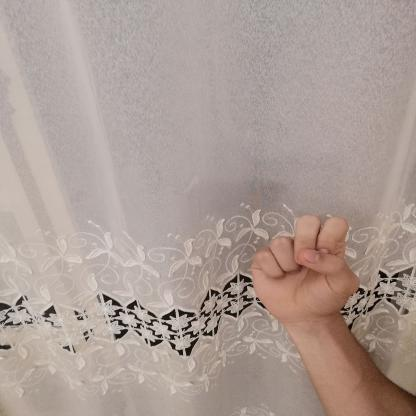QAAF: (235, 207, 373, 332)
